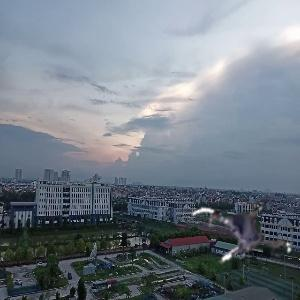drone: (191, 180, 296, 285)
